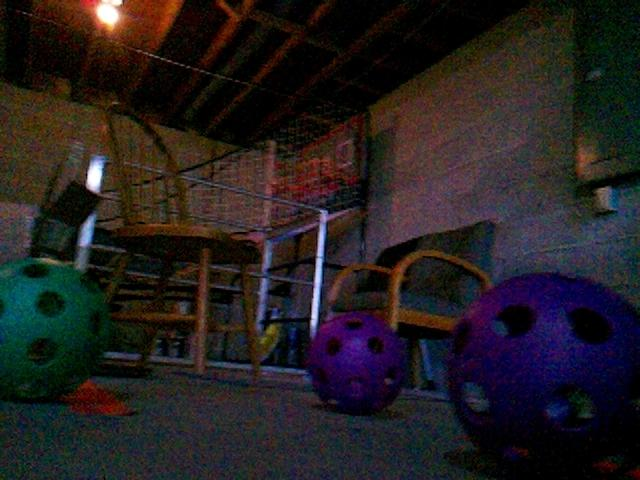Green: (0, 259, 116, 401)
Purple: (447, 274, 640, 472), (303, 310, 407, 414)
